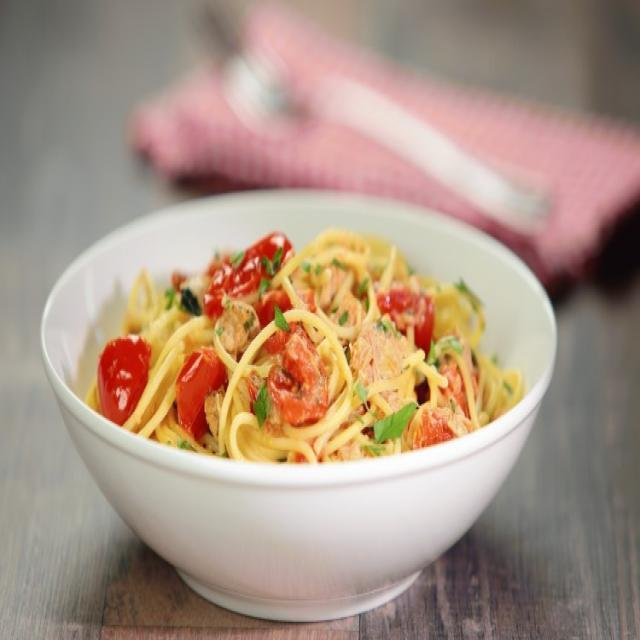Oil pasta: (66, 187, 536, 582)
